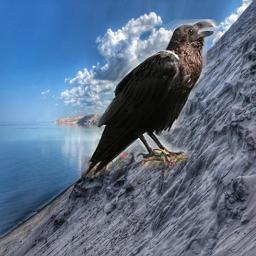Crow: (81, 19, 221, 177)
